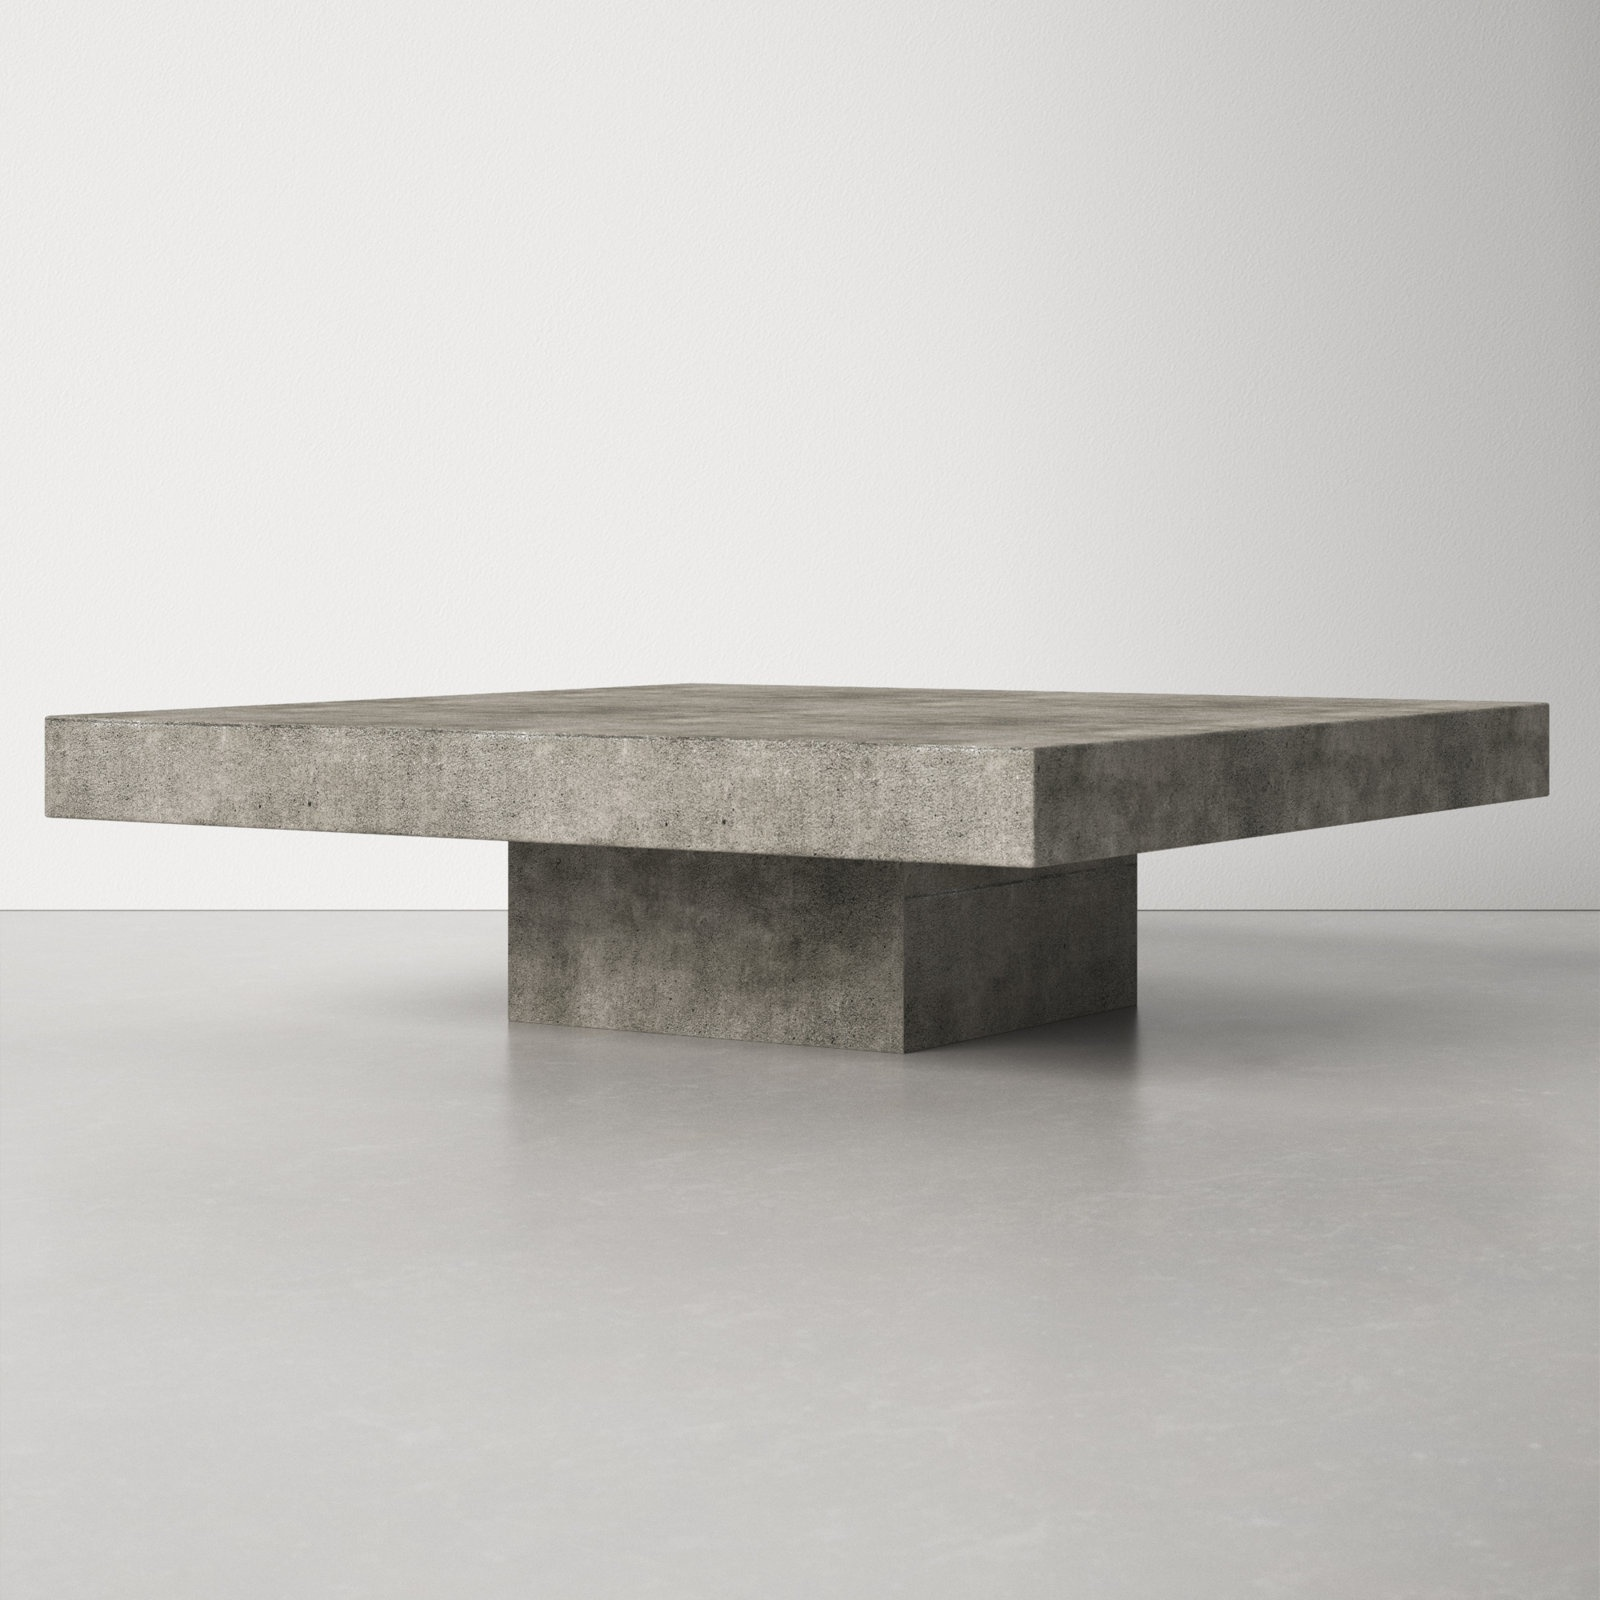obstacle: (45, 686, 1547, 1051)
